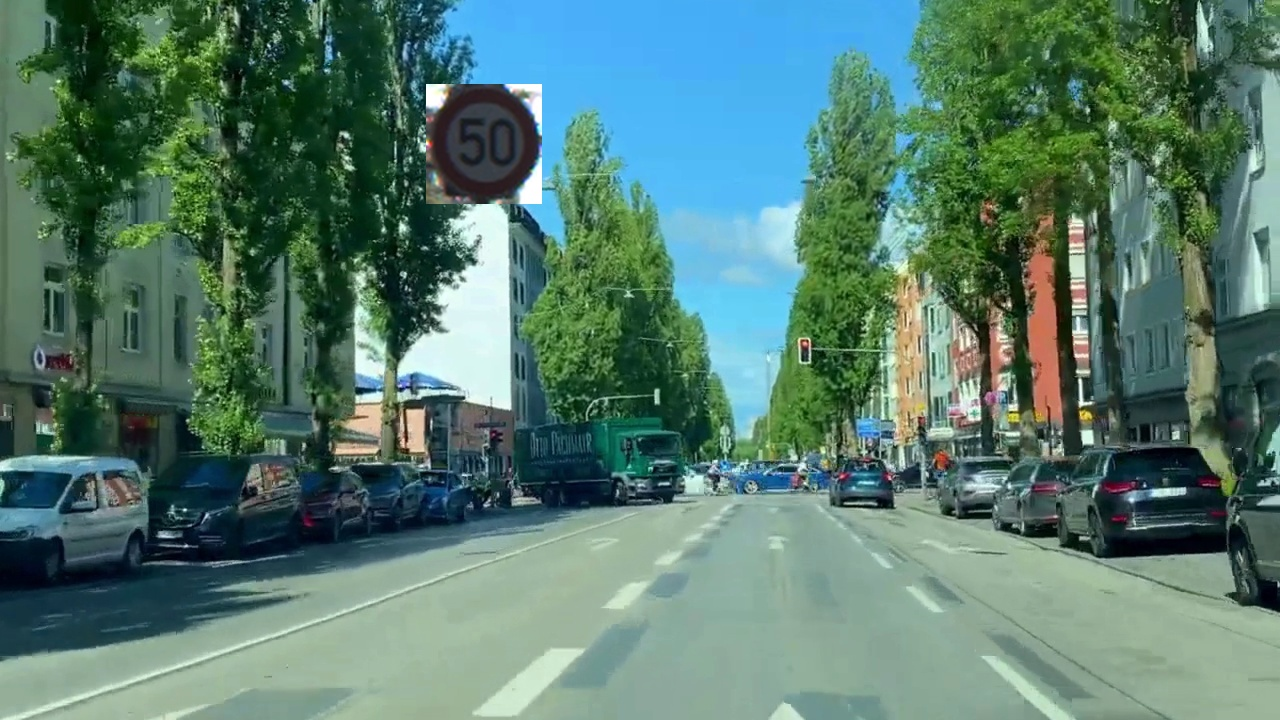Speed 50: (426, 84, 542, 204)
